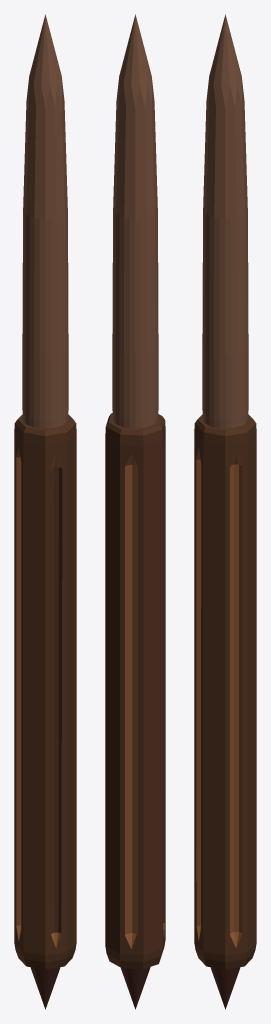
The model's file is Wand 502.glb.
3 views of the same model, side by side, from view 1: azimuth 90°, elevation 25°; view 2: azimuth 150°, elevation 25°; view 3: azimuth 270°, elevation 25° (orthographic).
Parts seen in each view (by area): view 1: GeneratedWand; view 2: GeneratedWand; view 3: GeneratedWand.
Part boxes in pixels (bbox=[...]): GeneratedWand: bbox=[14, 14, 76, 1009]; GeneratedWand: bbox=[105, 14, 165, 1009]; GeneratedWand: bbox=[194, 14, 256, 1009].
Bounding box in the file's own units: 0.0289 × 0.5088 × 0.0289.
